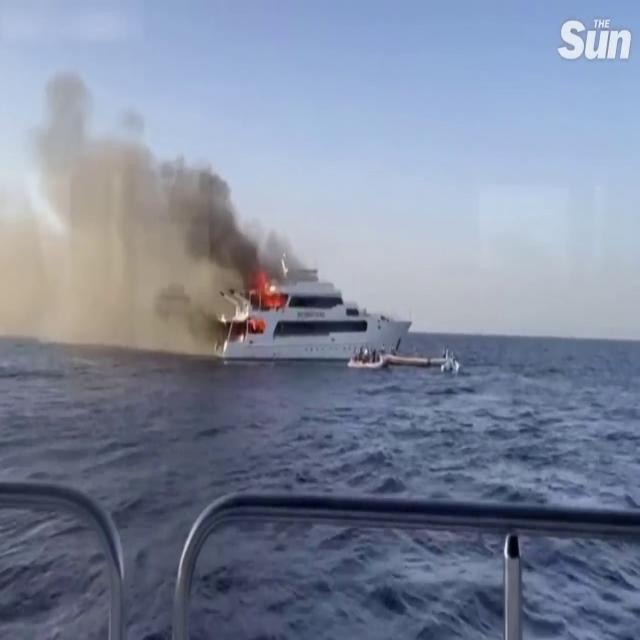Fire: (248, 265, 290, 319)
Smoke: (0, 60, 283, 344)
